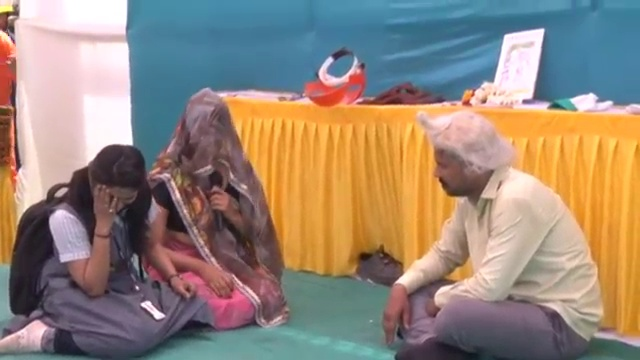helmet_off: (424, 113, 507, 204), (79, 143, 147, 217), (176, 95, 235, 165)
person: (372, 111, 609, 360), (0, 144, 184, 346), (143, 95, 283, 318)
